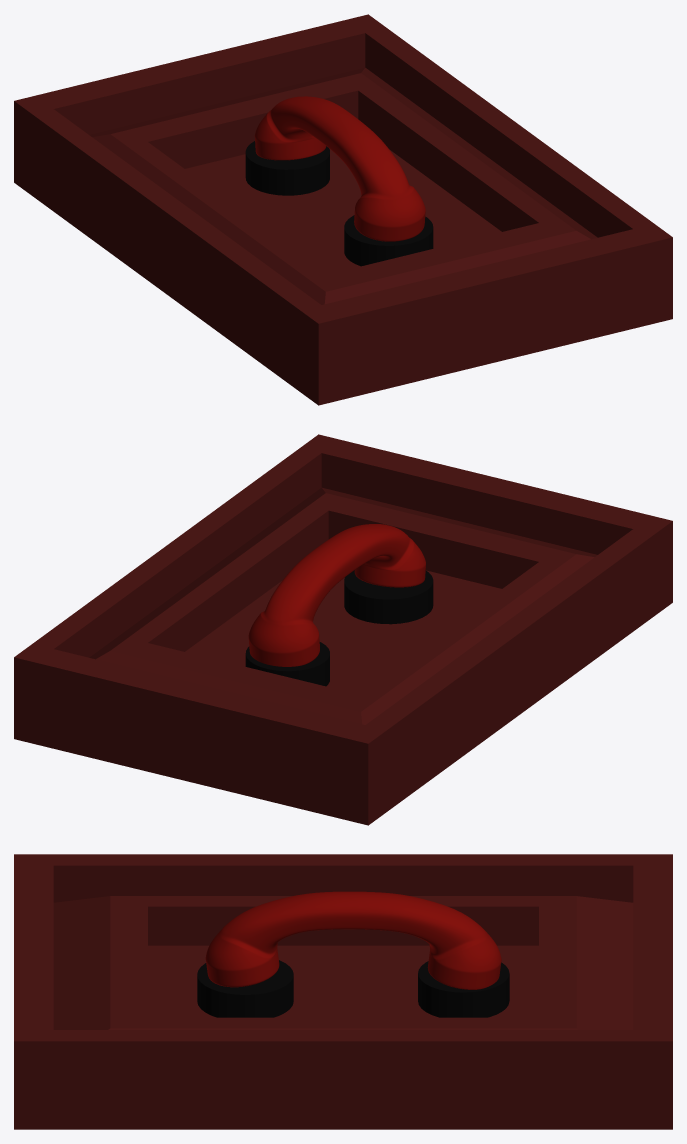
Rendered from phone.glb.
The picture shows the model from 3 angles, top to bottom: view 1: azimuth 30°, elevation 25°; view 2: azimuth 150°, elevation 25°; view 3: azimuth 270°, elevation 25°; orthographic projection. The views are drawn at different scales.
Parts seen in each view (by area): view 1: Cube, Phone, Cylinder, Cylinder.001; view 2: Cube, Phone, Cylinder.001, Cylinder; view 3: Cube, Phone, Cylinder.001, Cylinder.
Boxes of the visible parts, x1,y1,x2,y2 form: Cube: (14, 14, 672, 405); Phone: (254, 96, 425, 241); Cylinder: (245, 141, 329, 195); Cylinder.001: (344, 215, 433, 266); Cube: (14, 434, 672, 825); Phone: (248, 524, 425, 666); Cylinder.001: (344, 570, 433, 624); Cylinder: (245, 642, 329, 686); Cube: (14, 854, 672, 1129); Phone: (205, 891, 501, 989); Cylinder.001: (197, 960, 293, 1017); Cylinder: (418, 961, 509, 1017).
Size of the model in its own units: 2.62 by 0.9284 by 3.9.
